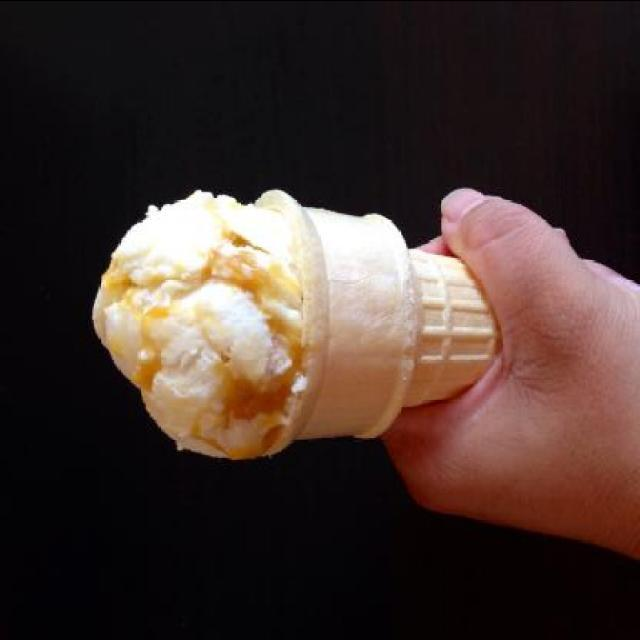Ice cream: (90, 180, 504, 462)
